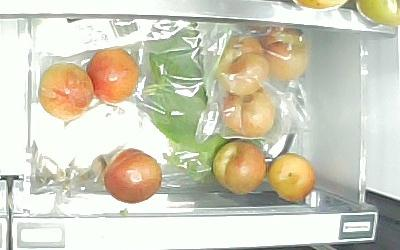prune: (36, 63, 94, 122), (88, 46, 141, 106), (105, 149, 163, 203), (213, 138, 267, 195), (269, 153, 316, 202)
prune_vinyl: (213, 38, 271, 96), (258, 25, 310, 81), (220, 90, 277, 136)
